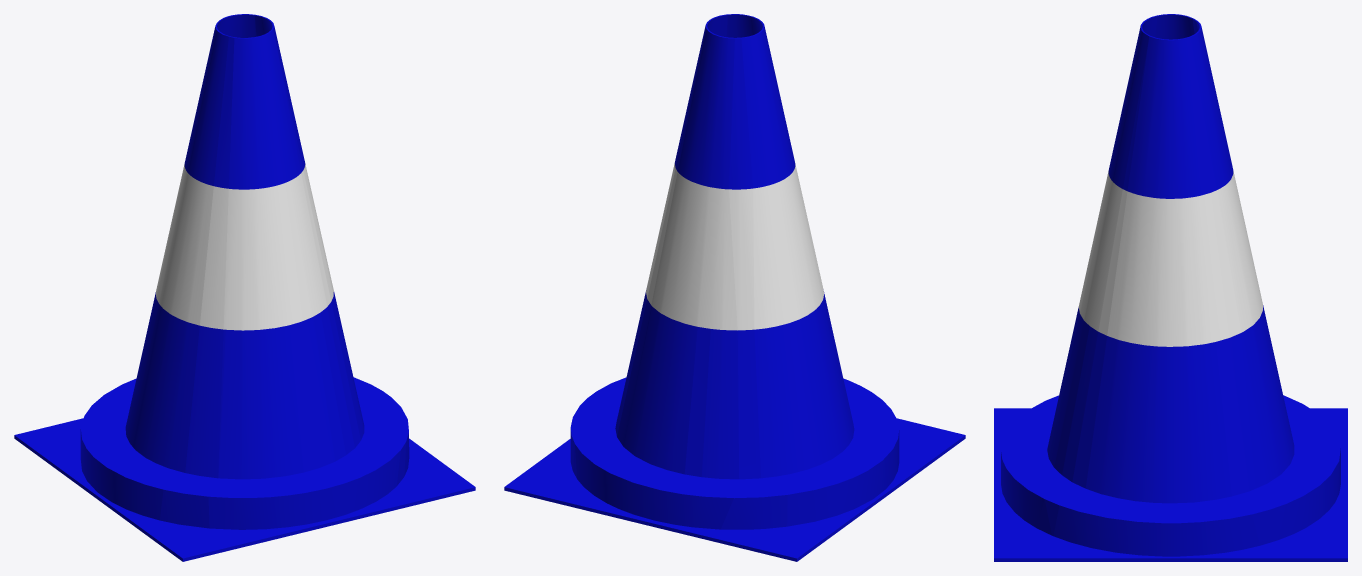
File: blue.glb
The picture shows the model from 3 angles, left to right: view 1: azimuth 30°, elevation 25°; view 2: azimuth 150°, elevation 25°; view 3: azimuth 270°, elevation 25°; orthographic projection. The views are drawn at different scales.
Parts seen in each view (by area): view 1: Cone_Blue.001, Cone_Blue.002; view 2: Cone_Blue.001, Cone_Blue.002; view 3: Cone_Blue.001, Cone_Blue.002.
Part boxes in pixels (x1,y1,x2,y2): Cone_Blue.001: [14, 14, 475, 561]; Cone_Blue.002: [156, 164, 333, 330]; Cone_Blue.001: [504, 14, 965, 561]; Cone_Blue.002: [646, 164, 824, 330]; Cone_Blue.001: [994, 14, 1347, 561]; Cone_Blue.002: [1078, 171, 1262, 346].
Size of the model in its own units: 0.2235 by 0.3198 by 0.223.
